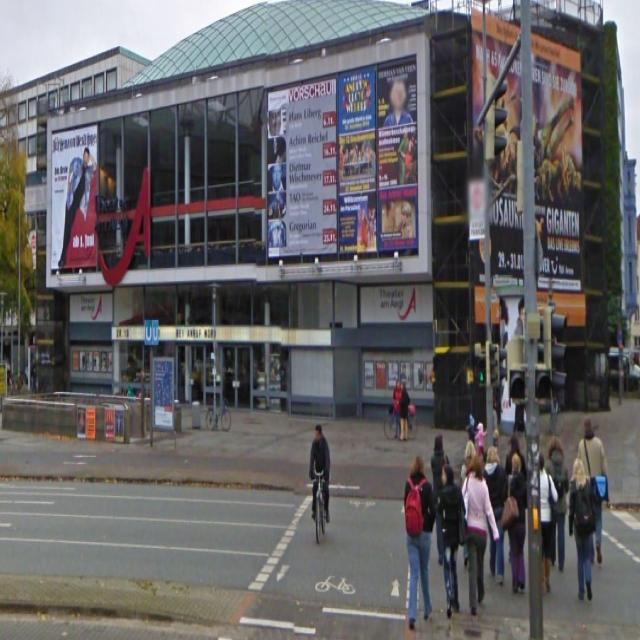Werbetafel frei: (473, 10, 585, 330), (266, 58, 421, 263), (49, 122, 101, 280), (149, 360, 175, 434), (104, 405, 127, 447), (72, 350, 113, 370), (76, 406, 96, 444), (374, 362, 387, 391), (414, 364, 427, 391), (363, 361, 374, 391), (388, 363, 401, 388), (401, 363, 413, 386)
